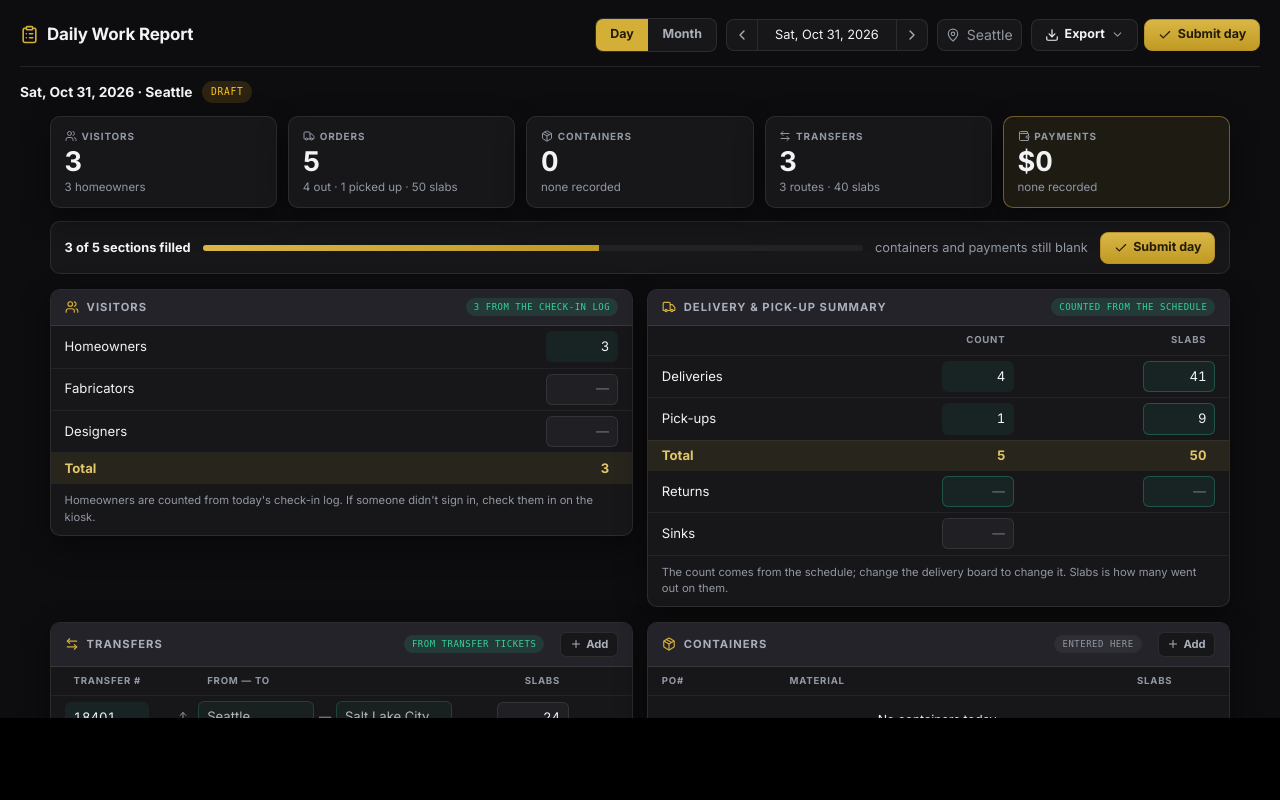
Test: Daily Report saves › autosaves after 1.2 s, keeping hand-set figures and dropping untouched auto ones
Type "3" into the field named "Sinks".
click(978, 534); type("3")  # box [942,518,1014,550]
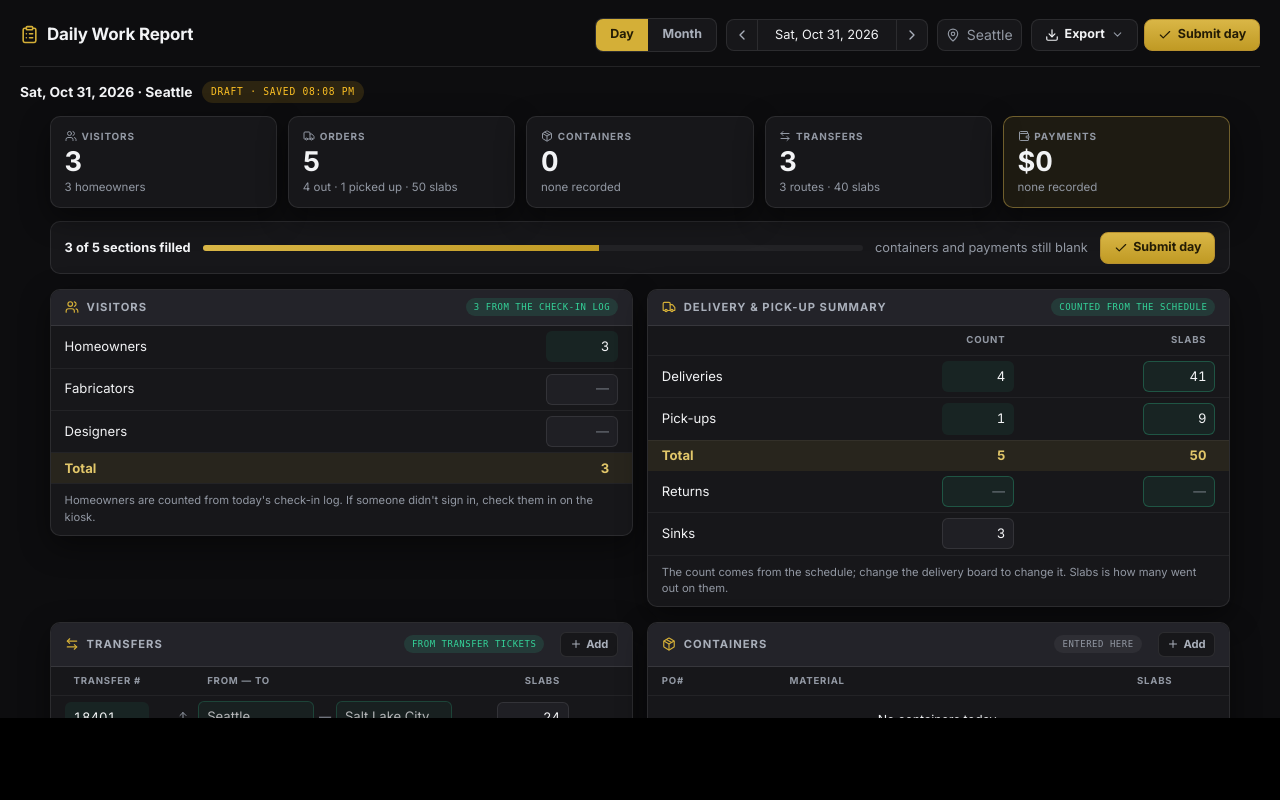
Expected: the text "Draft · saved 08:08 PM" is shown, [202,81,364,103]
